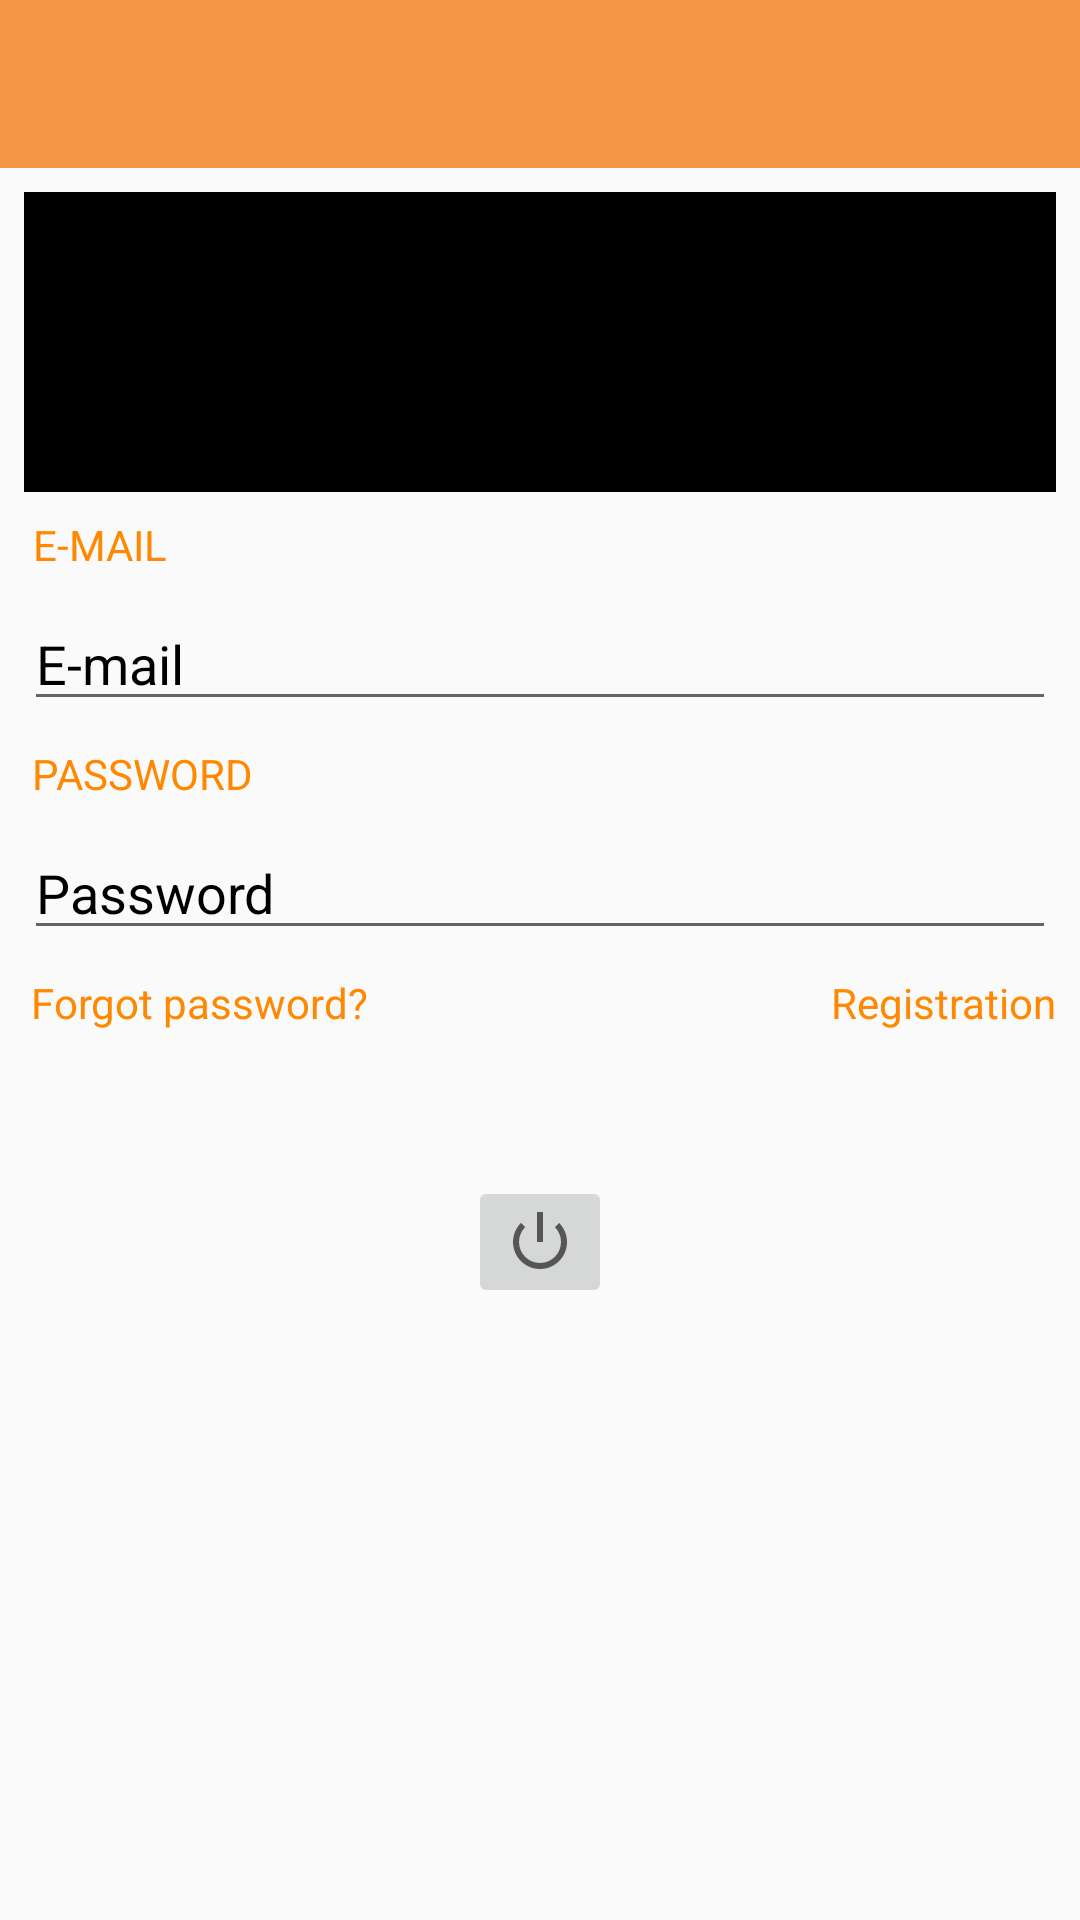

Where icons sit on this 1080px x 1920px app screen, as (x1=x1, y1=y1, x2=x2, y2=y2):
lock power off: (x1=480, y1=1194, x2=600, y2=1290)
